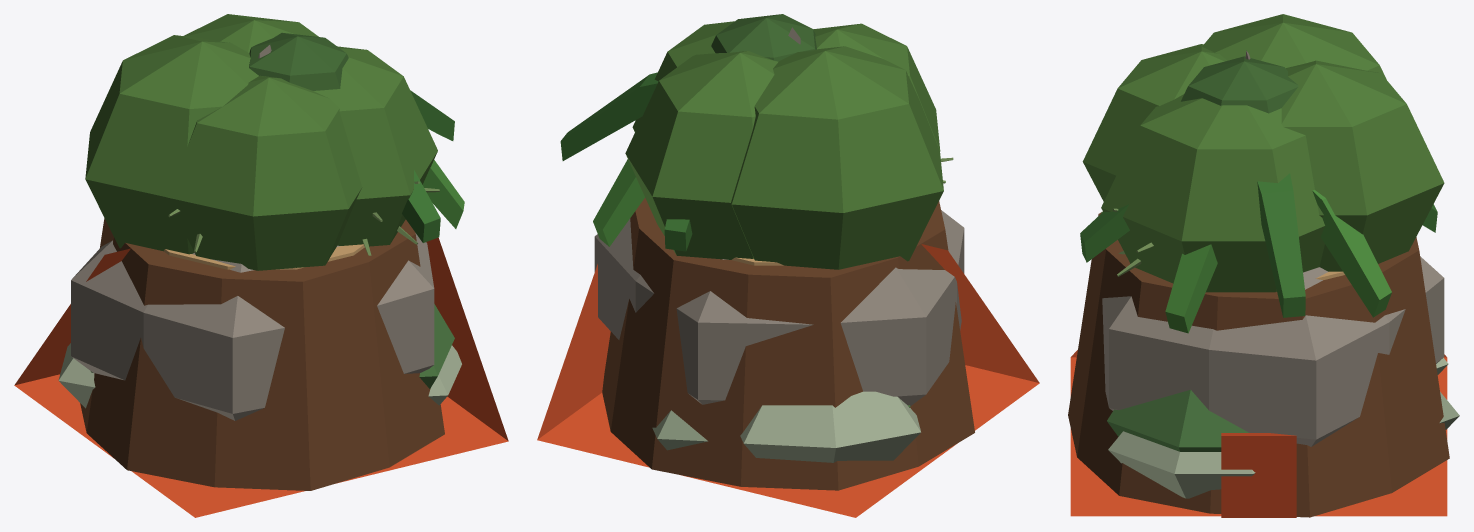
The model's file is scenery-hi.glb.
The picture shows the model from 3 angles, left to right: view 1: azimuth 30°, elevation 25°; view 2: azimuth 150°, elevation 25°; view 3: azimuth 270°, elevation 25°; orthographic projection. The views are drawn at different scales.
Visible parts, largest first — view 1: oak-oak-leaf, stump-bark, rock-stone, tent-canvas, oak-oak-leaf-dark, palm-palm-frond-dark, sage-sage-light, palm-palm-frond, bush-leaf-light, stump-cut-wood; view 2: oak-oak-leaf, stump-bark, rock-stone, tent-canvas, sage-sage-light, palm-palm-frond-dark, oak-oak-leaf-dark, palm-palm-frond, sage-sage; view 3: oak-oak-leaf, stump-bark, rock-stone, tent-canvas, palm-palm-frond, palm-palm-frond-dark, tent-canvas-dark, bush-leaf-light, sage-sage-light, oak-oak-leaf-dark.
Boxes of the visible parts, x1=… form: oak-oak-leaf: x1=85, y1=14, x2=437, y2=270; stump-bark: x1=80, y1=218, x2=444, y2=490; rock-stone: x1=71, y1=233, x2=434, y2=420; tent-canvas: x1=14, y1=237, x2=508, y2=517; oak-oak-leaf-dark: x1=249, y1=32, x2=348, y2=90; palm-palm-frond-dark: x1=402, y1=90, x2=454, y2=242; sage-sage-light: x1=58, y1=343, x2=461, y2=408; palm-palm-frond: x1=422, y1=160, x2=464, y2=228; bush-leaf-light: x1=90, y1=304, x2=454, y2=388; stump-cut-wood: x1=163, y1=244, x2=364, y2=269; oak-oak-leaf: x1=625, y1=21, x2=943, y2=269; stump-bark: x1=602, y1=197, x2=974, y2=490; rock-stone: x1=594, y1=210, x2=964, y2=405; tent-canvas: x1=537, y1=244, x2=1039, y2=517; sage-sage-light: x1=740, y1=391, x2=920, y2=462; palm-palm-frond-dark: x1=560, y1=72, x2=692, y2=251; oak-oak-leaf-dark: x1=711, y1=14, x2=816, y2=61; palm-palm-frond: x1=593, y1=159, x2=644, y2=246; sage-sage: x1=652, y1=410, x2=707, y2=450; oak-oak-leaf: x1=1082, y1=14, x2=1444, y2=292; stump-bark: x1=1068, y1=212, x2=1449, y2=517; rock-stone: x1=1102, y1=256, x2=1444, y2=446; tent-canvas: x1=1070, y1=350, x2=1447, y2=516; palm-palm-frond: x1=1165, y1=190, x2=1391, y2=333; palm-palm-frond-dark: x1=1080, y1=173, x2=1437, y2=317; tent-canvas-dark: x1=1221, y1=433, x2=1296, y2=517; bush-leaf-light: x1=1107, y1=389, x2=1248, y2=451; sage-sage-light: x1=1108, y1=358, x2=1448, y2=498; oak-oak-leaf-dark: x1=1181, y1=56, x2=1298, y2=113.
Bounding box in the file's own units: 1.19 × 1.17 × 1.04.
